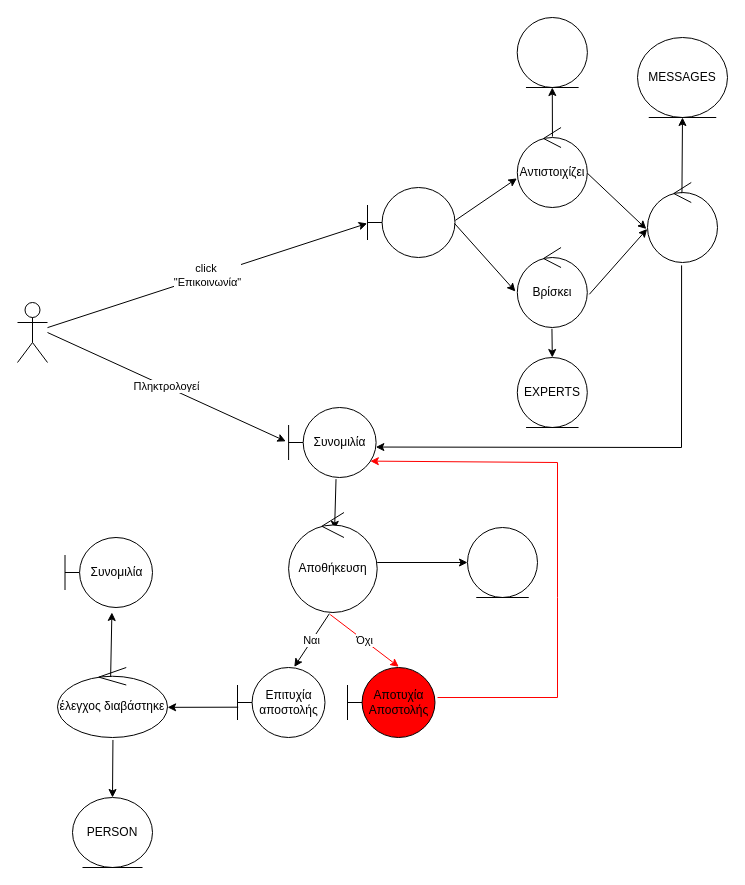
Image size: 745x885. Some labels were removed from this diagram. Each missing label, with the centre of its shape:
"CHAT_ID" belongs at pixel 551 52.
"MESSAGE" belongs at pixel 502 562.
"User" belongs at pixel 32 332.
"Αρχική Οθόνη" belongs at pixel 410 222.
"Βρίσκει & Εμφανίζει" belongs at pixel 682 222.
